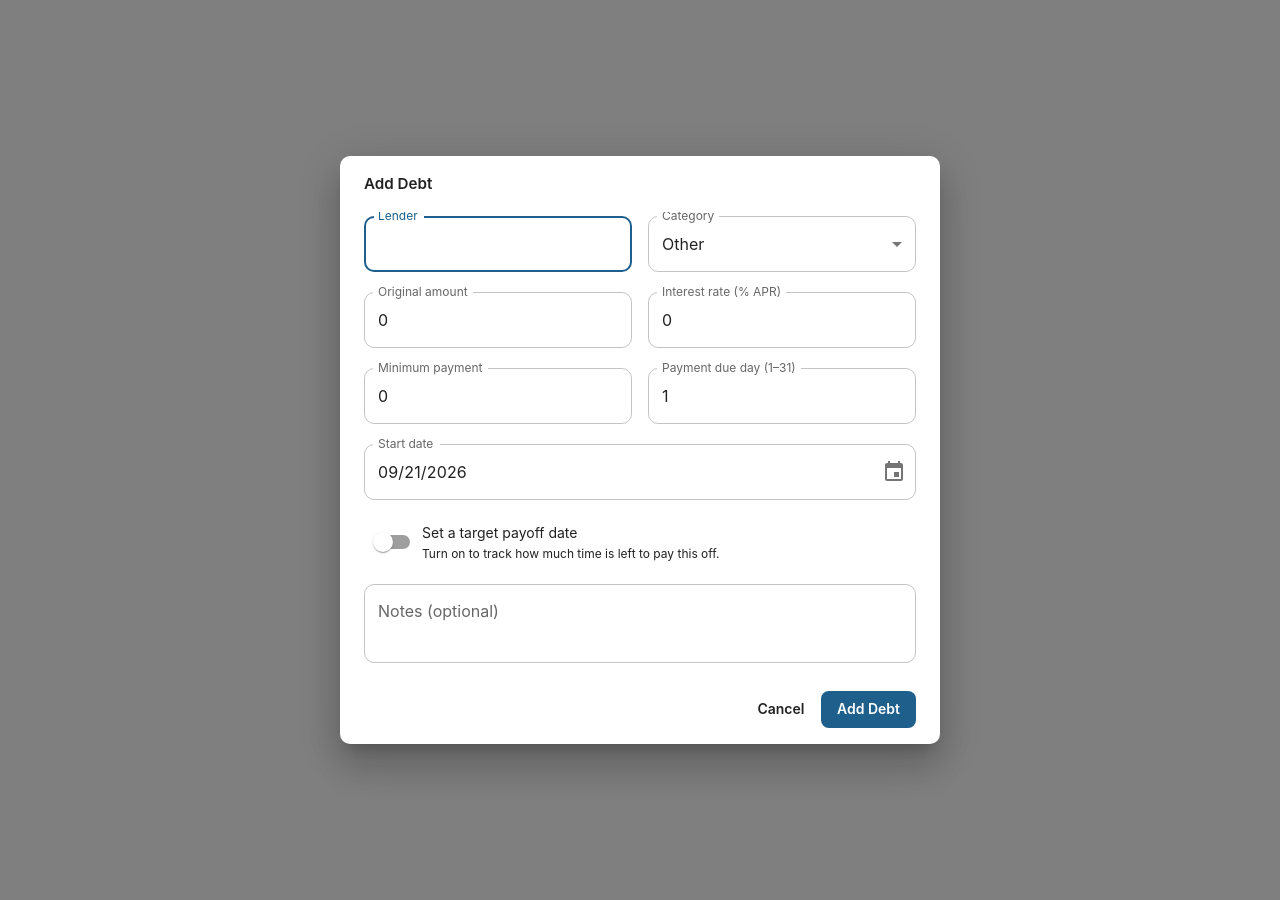
DebtFormDialog › requires a lender name
Replace the text in the number field labelled "Original amount" with "5000" at [498, 320], box [364, 292, 632, 348]
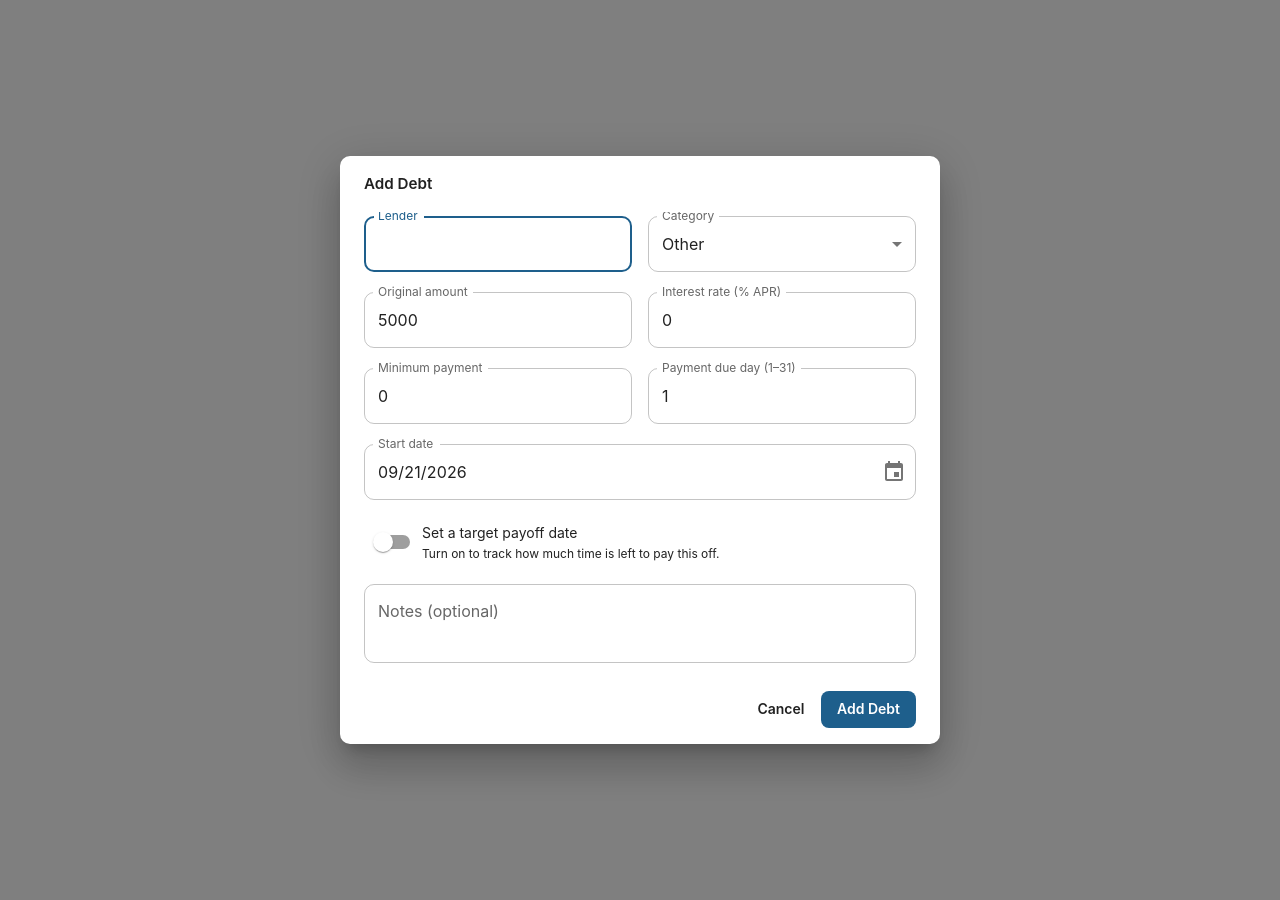
Click the button "Add Debt" at [868, 710], box [821, 691, 916, 728]
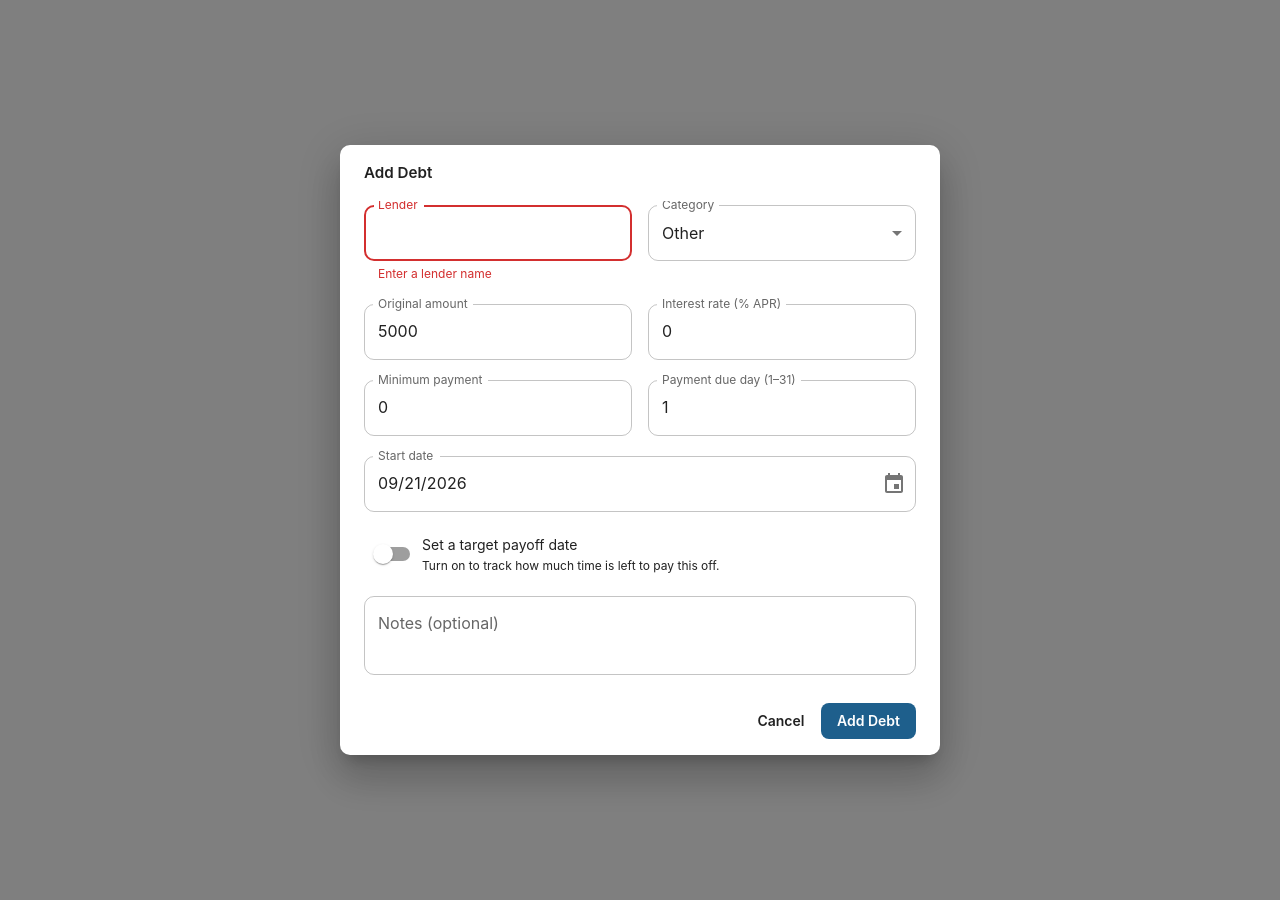
Now the text "Enter a lender name" is shown, box [378, 266, 492, 281]
